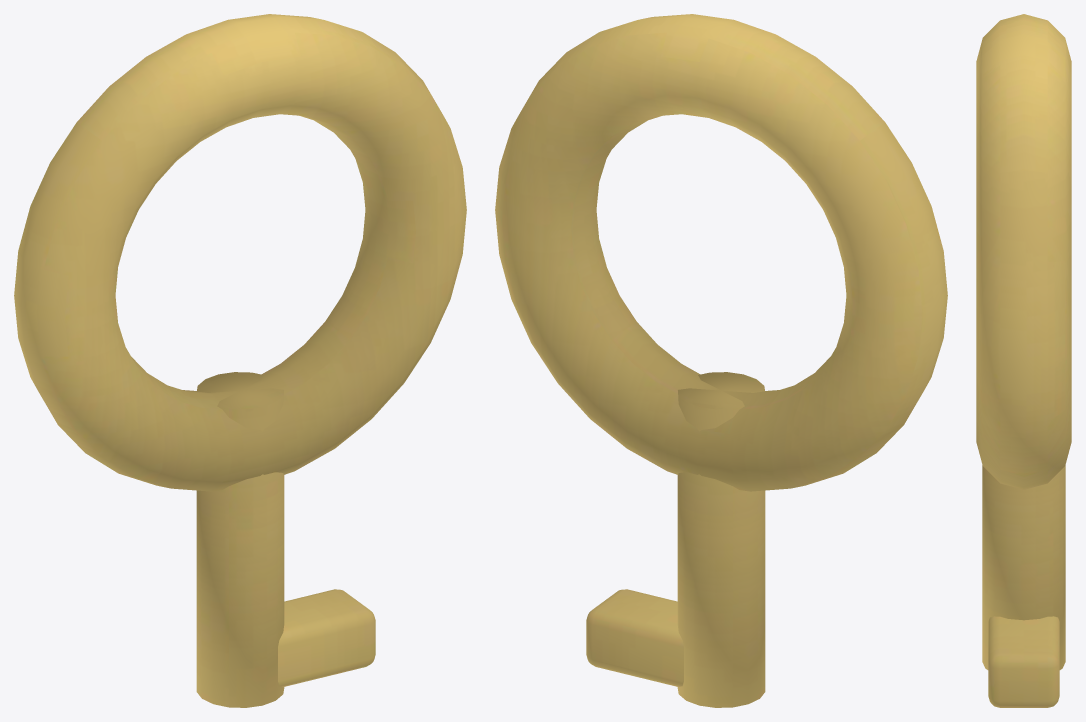
The model's file is item_key.glb.
The picture shows the model from 3 angles, left to right: view 1: azimuth 30°, elevation 25°; view 2: azimuth 150°, elevation 25°; view 3: azimuth 270°, elevation 25°; orthographic projection. The views are drawn at different scales.
Parts seen in each view (by area): view 1: key; view 2: key; view 3: key.
Part boxes in pixels (box(x1,y1,x2,y2)): key: box(14, 14, 466, 707); key: box(495, 14, 947, 707); key: box(976, 14, 1071, 707).
Size of the model in its own units: 0.4 by 0.58 by 0.08.
1 material, 1 textured.
